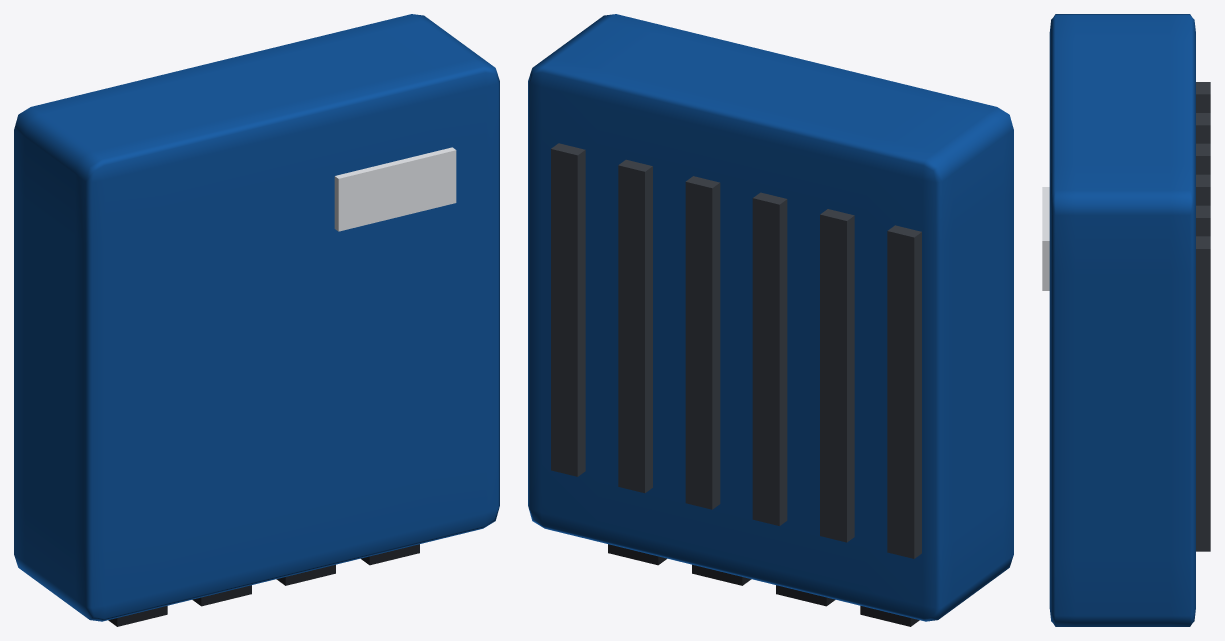
The model's file is victron_orion_xs_12_12_50.mid.glb.
3 renders of one model, left to right at view 1: azimuth 30°, elevation 25°; view 2: azimuth 150°, elevation 25°; view 3: azimuth 270°, elevation 25°, orthographic. The views are drawn at different scales.
Visible parts, largest first — view 1: victron_orion_xs_12_12_50; view 2: victron_orion_xs_12_12_50; view 3: victron_orion_xs_12_12_50.
Boxes of the visible parts, x1=… form: victron_orion_xs_12_12_50: x1=14, y1=14, x2=499, y2=626; victron_orion_xs_12_12_50: x1=528, y1=14, x2=1013, y2=626; victron_orion_xs_12_12_50: x1=1042, y1=14, x2=1210, y2=626.
Bounding box in the file's own units: 0.1231 × 0.1373 × 0.046.
